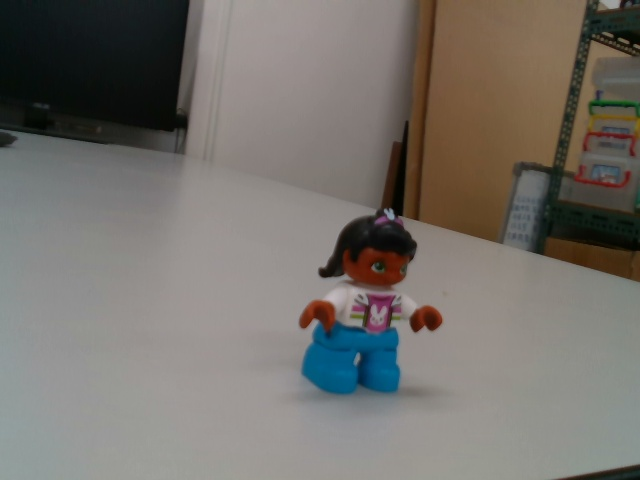people: (295, 200, 446, 397)
